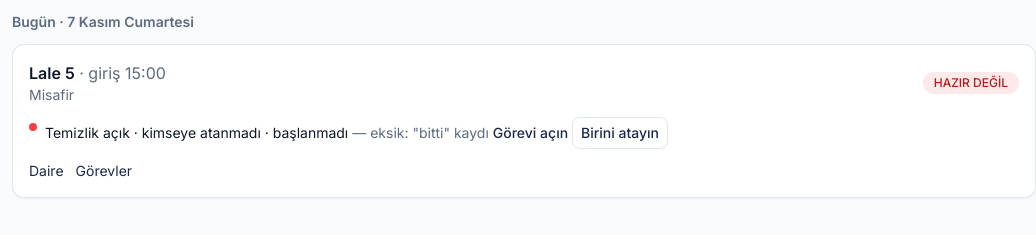
Girişler — satırdan atama › ağ hatası → bağlantı cümlesi, yenileme yok
Select "Ali" in the dropdown named "Birini atayın" at (620, 133), box left=572, top=117, right=668, bottom=149
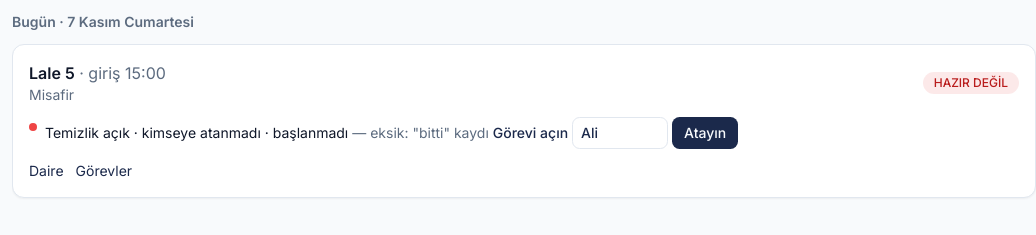
Click the button "Atayın" at (705, 133), box left=672, top=117, right=738, bottom=149
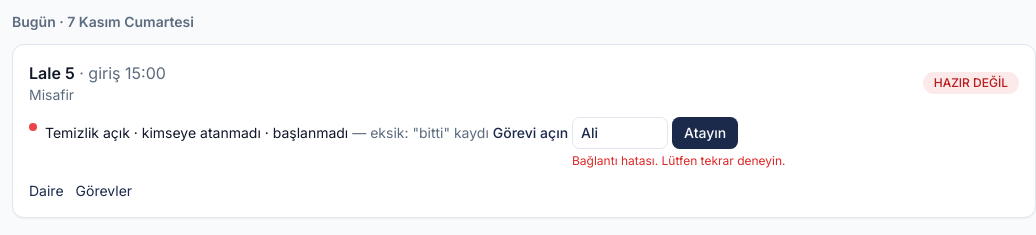
Result: the message reads "Bağlantı hatası. Lütfen tekrar deneyin." at left=572, top=153, right=786, bottom=168
